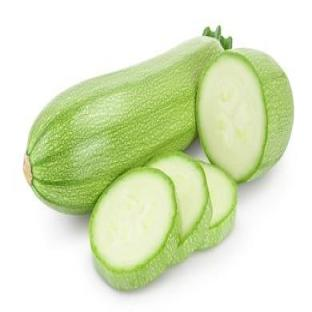Zucchini: (24, 28, 231, 213), (196, 50, 293, 182), (90, 168, 179, 290), (148, 153, 211, 265), (199, 161, 236, 249)
